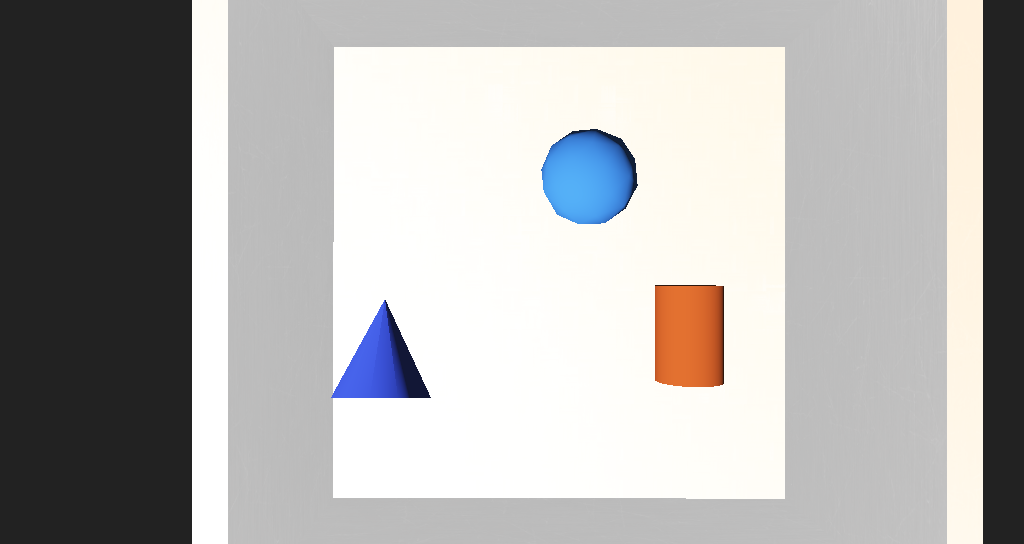cone: (569, 272, 616, 320)
cylinder: (354, 277, 428, 334)
sphere: (495, 200, 556, 248)
